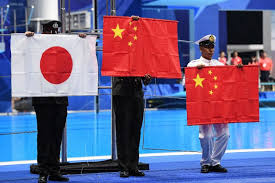Japanese Flag: (9, 31, 99, 98)
